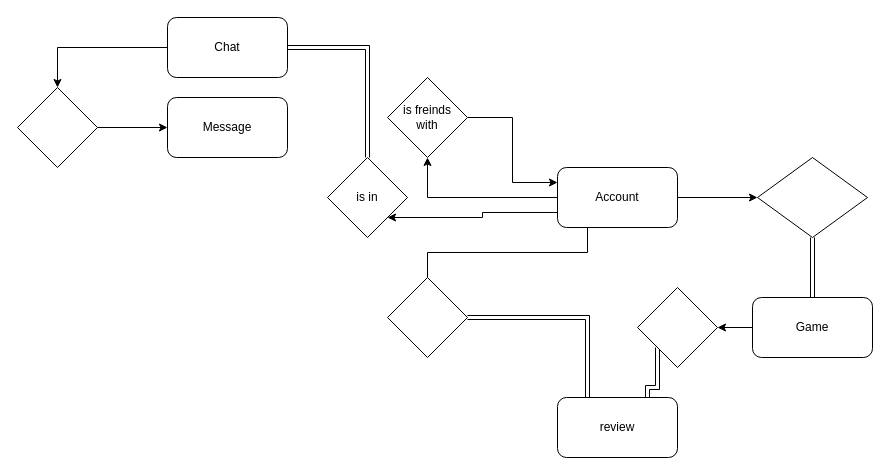
Image size: 890x475. Some labels were removed from this diagram. Each missing label, with the box of its shape:
Chat contains: (16, 86, 98, 168)
has review: (636, 286, 718, 368)
is author of: (386, 276, 468, 358)
owns / can buy: (756, 156, 868, 238)
